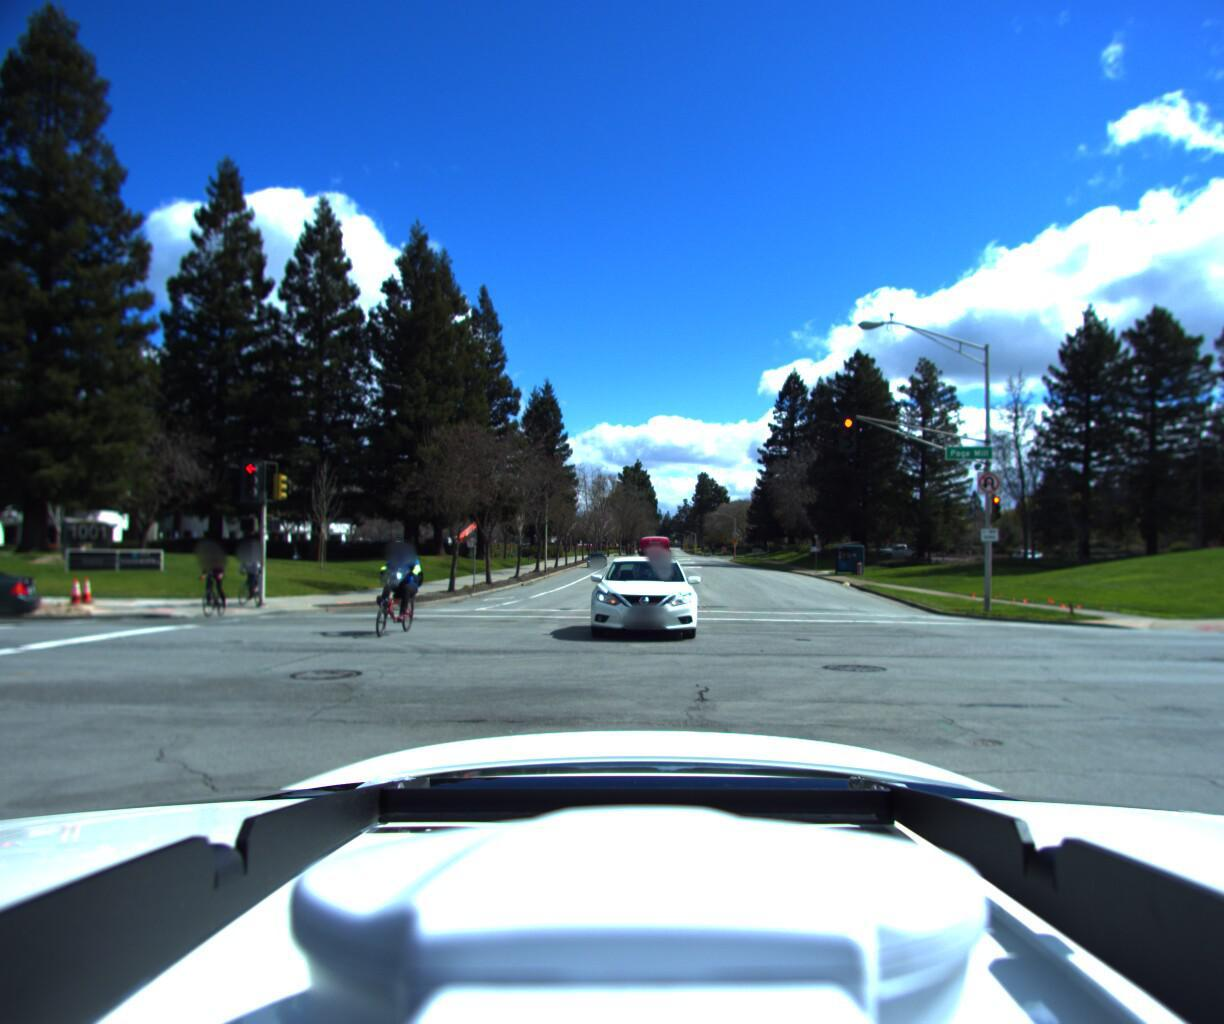bicycle: (336, 536, 437, 648), (182, 548, 235, 620), (222, 546, 276, 611)
bus: (634, 533, 669, 578)
car: (576, 552, 698, 653)
